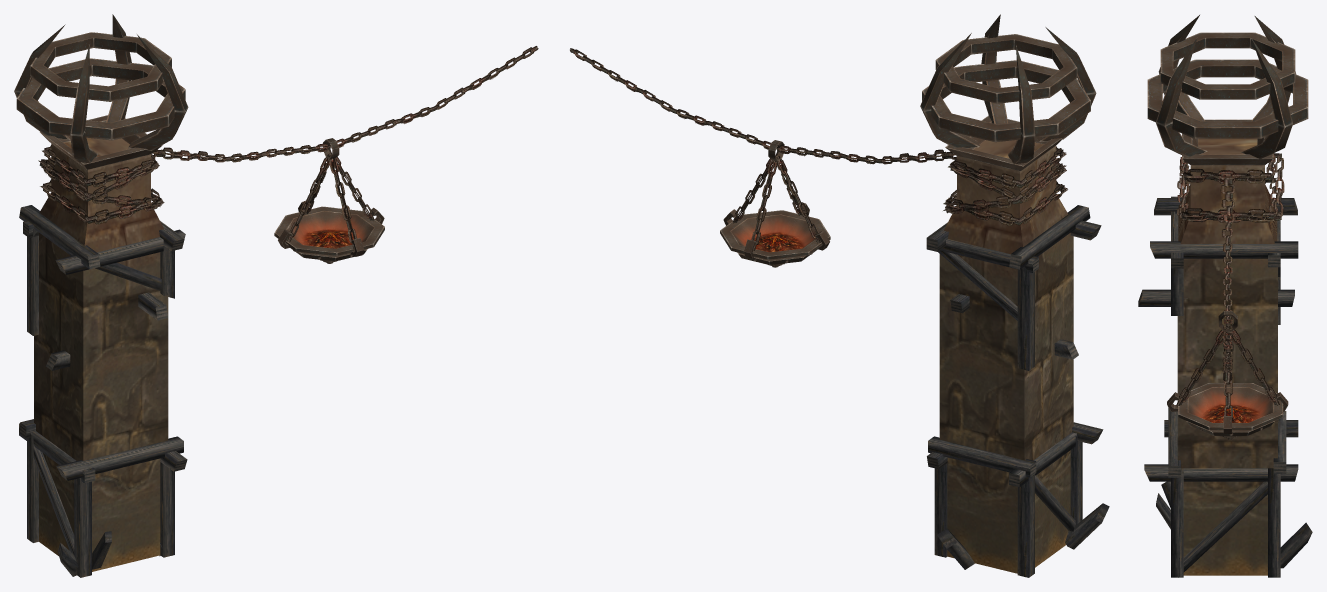
Rendered from huopen_62.FBX.
3 views of the same model, side by side, from view 1: azimuth 30°, elevation 25°; view 2: azimuth 150°, elevation 25°; view 3: azimuth 270°, elevation 25° (orthographic). The views are drawn at different scales.
Visible parts, largest first — view 1: huopen_zhuti_62, huopen_tielian_62; view 2: huopen_zhuti_62, huopen_tielian_62; view 3: huopen_zhuti_62, huopen_tielian_62.
Boxes of the visible parts, <box> form: huopen_zhuti_62: <box>14,14,188,577</box>; huopen_tielian_62: <box>152,46,538,263</box>; huopen_zhuti_62: <box>920,14,1109,577</box>; huopen_tielian_62: <box>570,48,955,267</box>; huopen_zhuti_62: <box>1138,15,1312,577</box>; huopen_tielian_62: <box>1167,174,1288,439</box>.
Size of what is drawn, in the model's own units: 588 by 582 by 172.
